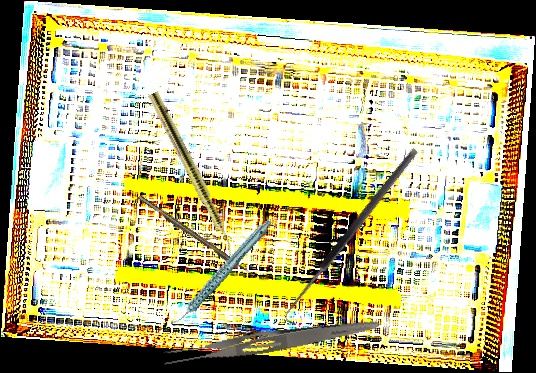Dressing Forceps: (159, 309, 382, 372)
Handpiece: (145, 90, 241, 258), (153, 218, 289, 327)
Hook Surgical: (279, 146, 427, 328), (137, 194, 255, 279)
